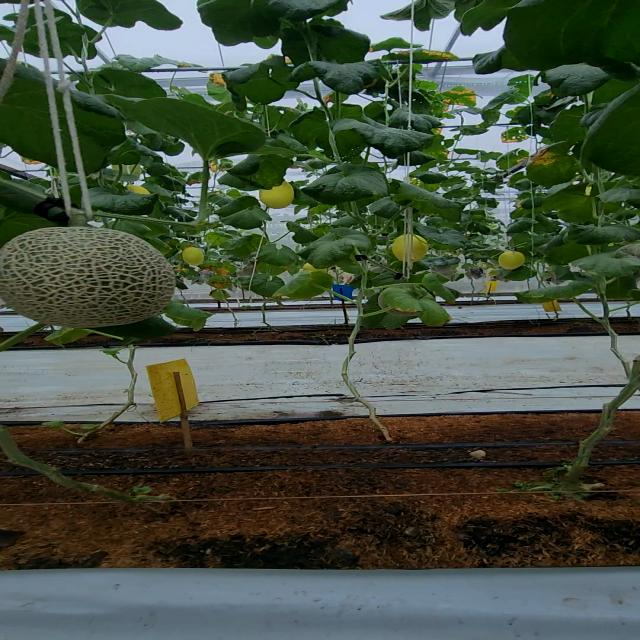Front-melon: (0, 225, 174, 328)
Rear-melon: (258, 184, 292, 206), (396, 240, 427, 262), (502, 249, 522, 268), (184, 247, 206, 262)
